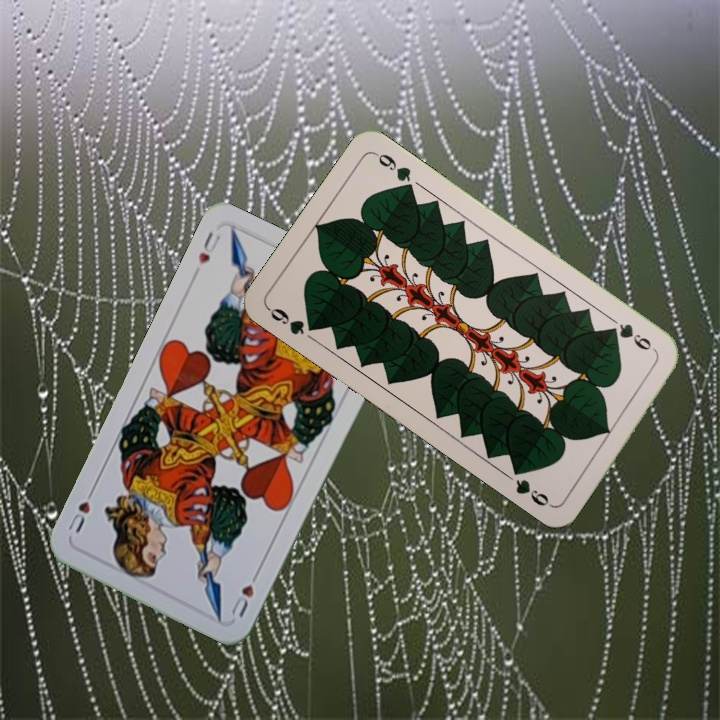G9: (604, 319, 660, 357), (264, 303, 322, 338)
HU: (227, 566, 263, 620), (194, 227, 223, 267)
